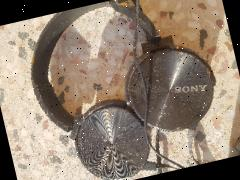electronic: (18, 0, 233, 180)
